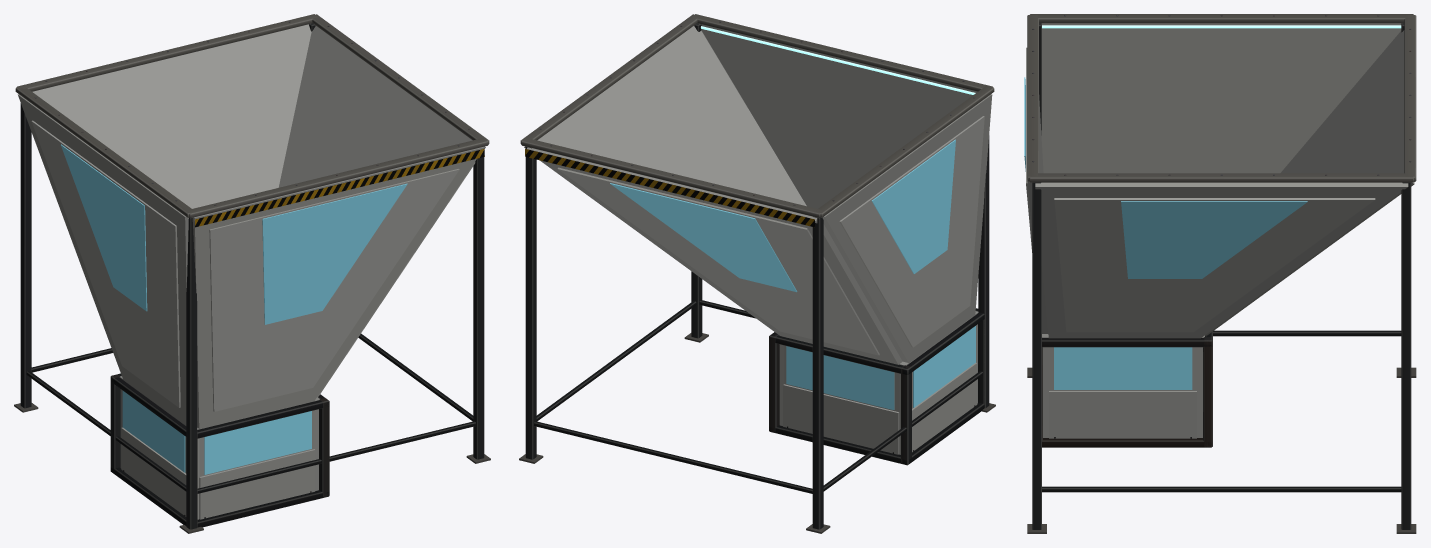
The model's file is chute_adv_hopper_2x2.glb.
3 views of the same model, side by side, from view 1: azimuth 30°, elevation 25°; view 2: azimuth 150°, elevation 25°; view 3: azimuth 270°, elevation 25° (orthographic). The views are drawn at different scales.
Visible parts, largest first — view 1: Frame; view 2: Frame, Power; view 3: Frame, Power.
Boxes of the visible parts, x1,y1,x2,y2 form: Frame: (14,14,490,533); Frame: (519,14,995,533); Power: (701,26,975,94); Frame: (1024,14,1416,533); Power: (1042,25,1401,28).
Size of the model in its own units: 3.97 by 3.99 by 3.97.
